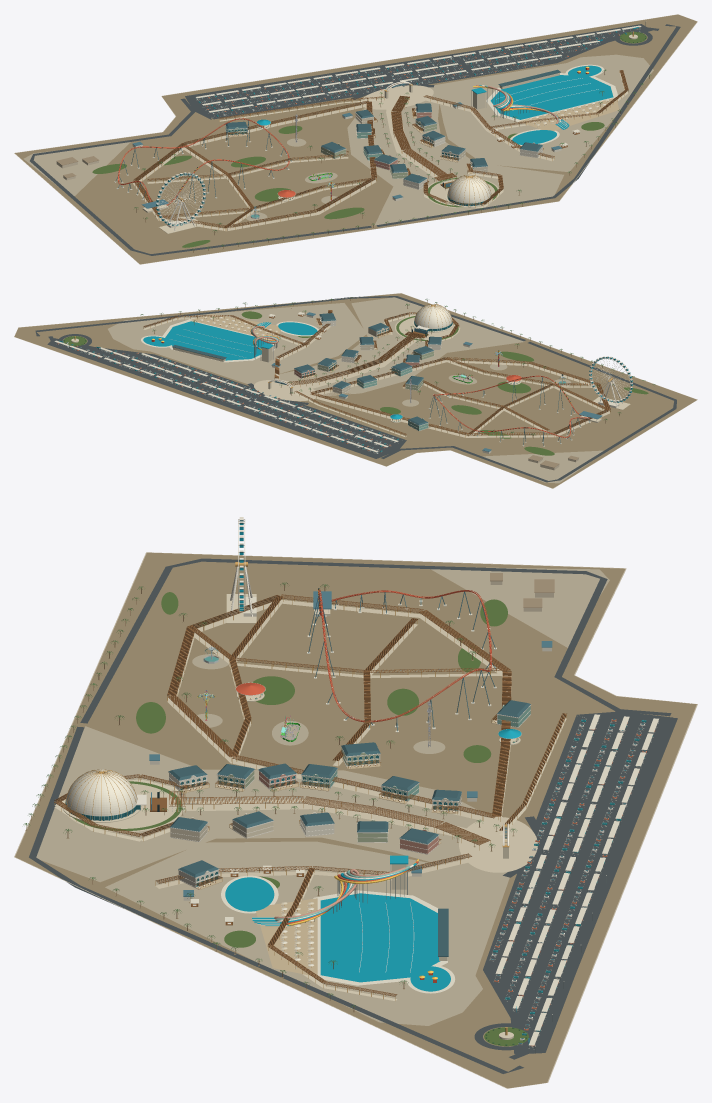
Rendered from muscat-park-v3.glb.
3 renders of one model, top to bottom at view 1: azimuth 30°, elevation 25°; view 2: azimuth 150°, elevation 25°; view 3: azimuth 270°, elevation 25°, orthographic. The views are drawn at different scales.
Parts seen in each view (by area): view 1: Reference zone rides, Original screenshot site perimeter, Reference zone water, Reference zone city, V3 wave pool and beach, V3 all pedestrian pergolas and mist pipes, Reference zone parking, V3 two-storey promenade facades, V3 parking shade and wayfinding, Reference zone utility, Parking bays and cars, West perimeter service carriageway (+18 smaller); view 2: Reference zone rides, Original screenshot site perimeter, Reference zone water, Reference zone city, Reference zone parking, V3 wave pool and beach, V3 all pedestrian pergolas and mist pipes, V3 two-storey promenade facades, V3 parking shade and wayfinding, Reference zone utility, Parking bays and cars, Amusement shaded loop 00 (+14 smaller); view 3: Reference zone rides, Original screenshot site perimeter, Reference zone water, Reference zone city, V3 wave pool and beach, V3 all pedestrian pergolas and mist pipes, Reference zone parking, V3 two-storey promenade facades, Reference zone utility, V3 parking shade and wayfinding, West perimeter service carriageway, Parking bays and cars (+18 smaller).
Part boxes in pixels (left/top/right/bottom): Reference zone rides: left=76, top=100, right=390, bottom=255; Original screenshot site perimeter: left=15, top=14, right=696, bottom=264; Reference zone water: left=431, top=54, right=653, bottom=172; Reference zone city: left=347, top=87, right=563, bottom=225; V3 wave pool and beach: left=471, top=64, right=618, bottom=148; V3 all pedestrian pergolas and mist pipes: left=133, top=70, right=628, bottom=230; Reference zone parking: left=185, top=24, right=652, bottom=119; V3 two-storey promenade facades: left=132, top=102, right=561, bottom=200; V3 parking shade and wayfinding: left=195, top=21, right=645, bottom=112; Reference zone utility: left=23, top=142, right=130, bottom=196; Parking bays and cars: left=196, top=28, right=640, bottom=116; West perimeter service carriageway: left=30, top=98, right=371, bottom=255; Reference zone rides: left=314, top=343, right=679, bottom=454; Original screenshot site perimeter: left=14, top=293, right=696, bottom=488; Reference zone water: left=108, top=303, right=366, bottom=383; Reference zone city: left=253, top=297, right=524, bottom=396; Reference zone parking: left=47, top=338, right=405, bottom=458; V3 wave pool and beach: left=141, top=312, right=326, bottom=362; V3 all pedestrian pergolas and mist pipes: left=143, top=310, right=610, bottom=437; V3 two-storey promenade facades: left=271, top=312, right=491, bottom=453; V3 parking shade and wayfinding: left=54, top=336, right=398, bottom=452; Reference zone utility: left=482, top=450, right=603, bottom=483; Parking bays and cars: left=57, top=340, right=398, bottom=453; Amusement shaded loop 00: left=310, top=360, right=610, bottom=437; Reference zone rides: left=88, top=558, right=595, bottom=815; Original screenshot site perimeter: left=15, top=552, right=696, bottom=1088; Reference zone water: left=105, top=841, right=509, bottom=1025; Reference zone city: left=36, top=726, right=507, bottom=882; V3 wave pool and beach: left=190, top=855, right=455, bottom=993; V3 all pedestrian pergolas and mist pipes: left=54, top=594, right=566, bottom=1000; Reference zone parking: left=483, top=711, right=673, bottom=1054; V3 two-storey promenade facades: left=149, top=641, right=552, bottom=900; Reference zone utility: left=431, top=567, right=609, bottom=647; V3 parking shade and wayfinding: left=485, top=714, right=658, bottom=1053; West perimeter service carriageway: left=80, top=558, right=671, bottom=723; Parking bays and cars: left=490, top=717, right=658, bottom=1049.
Bounding box in the file's own units: 1191 × 91.01 × 642.
